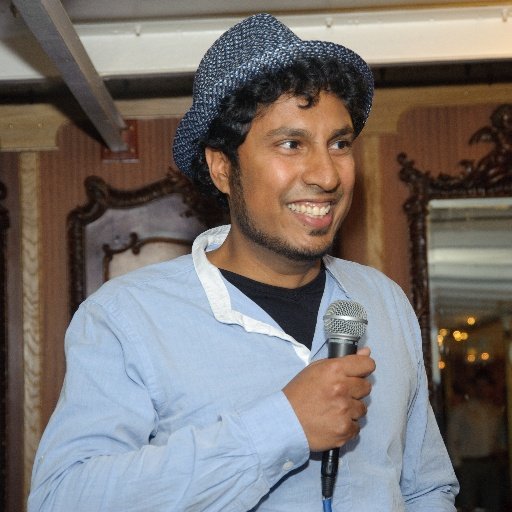hand: (294, 350, 374, 450)
